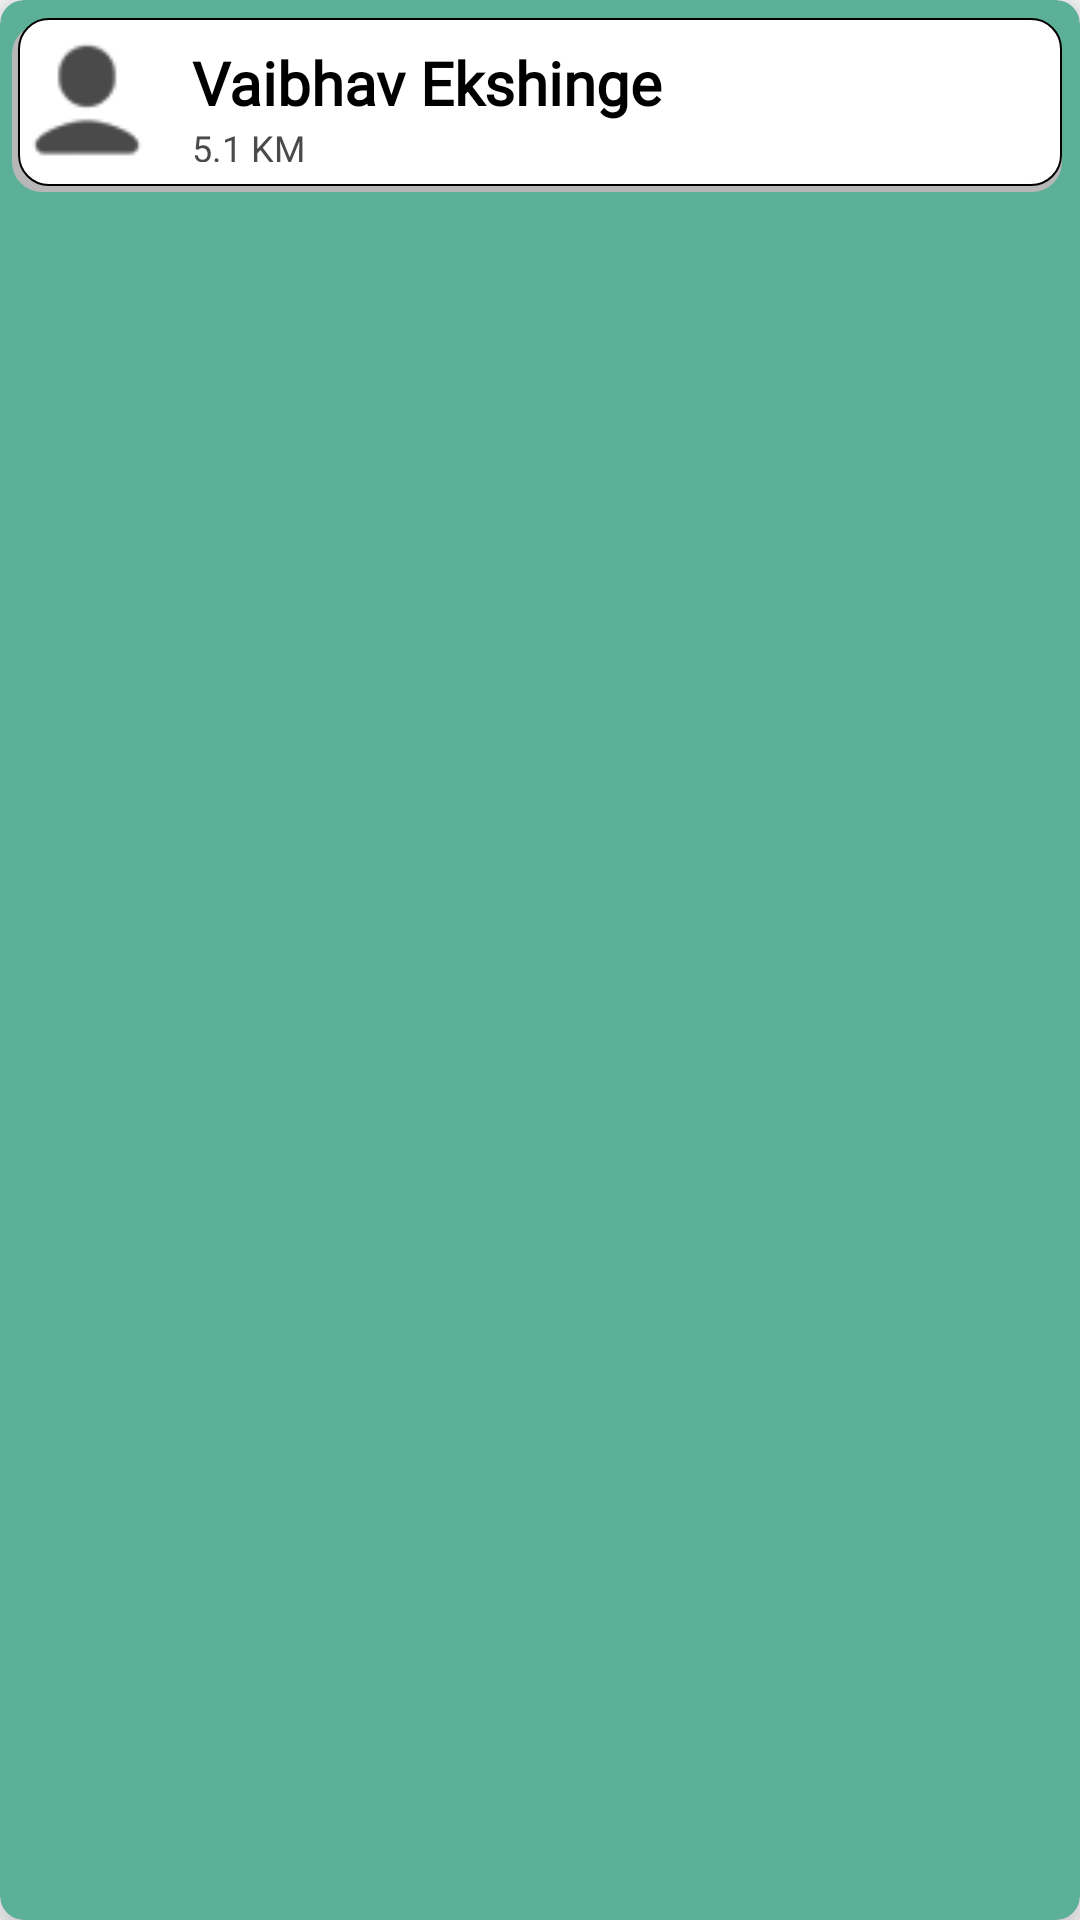

Screen size 1080px×1920px. Icon name, then its box in pixels as (x1, y1, x2, y2):
user: (34, 45, 140, 156)
